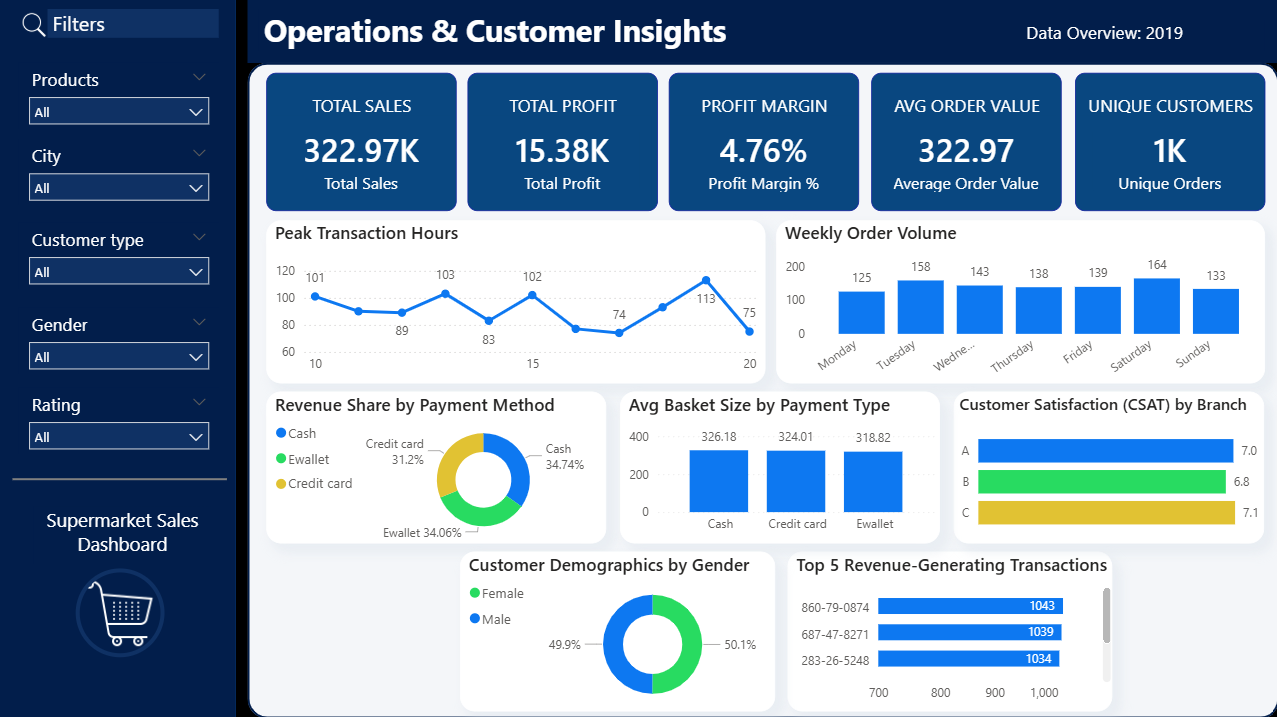

Layout of this report page (visuals, bound fields, positions):
{"tool":"powerbi","page":{"name":"Page 2","canvas":[1280,720],"ordinal":1},"visuals":[{"type":"shape","box":[0,0,235.7,720],"z":0},{"type":"textbox","title":"Filters","box":[47.1,9.7,171.3,29],"z":1000},{"type":"slicer","fields":{"Values":["supermarket_sales - Sheet1.City"]},"box":[18.6,140,200,65.7],"z":2000},{"type":"slicer","fields":{"Values":["supermarket_sales - Sheet1.Customer type"]},"box":[18.6,224.3,200,65.7],"z":3000},{"type":"slicer","fields":{"Values":["supermarket_sales - Sheet1.Product line"]},"box":[18.6,64.3,200,65.7],"z":4000},{"type":"slicer","fields":{"Values":["supermarket_sales - Sheet1.Gender"]},"box":[18.6,308.6,200,65.7],"z":5000},{"type":"slicer","fields":{"Values":["supermarket_sales - Sheet1.Rating"]},"box":[18.6,388.6,200,65.7],"z":6000},{"type":"shape","box":[247.1,0,1032.9,64.3],"z":7000},{"type":"textbox","title":"Operations & Customer Insights","box":[258.6,10,491.4,41.4],"z":8000},{"type":"textbox","title":"Data Overview: 2019","box":[1021.4,21.4,242.9,30],"z":9000},{"type":"shape","box":[247.1,64.3,1032.9,655.7],"z":10000},{"type":"cardVisual","title":"TOTAL SALES","fields":{"Data":["supermarket_sales - Sheet1.Total Sales"]},"box":[266.6,73.6,190,138],"z":11000},{"type":"cardVisual","title":"TOTAL PROFIT","fields":{"Data":["supermarket_sales - Sheet1.Total Profit"]},"box":[466.9,73.6,190,138],"z":12000},{"type":"cardVisual","title":"UNIQUE CUSTOMERS","fields":{"Data":["supermarket_sales - Sheet1.Customer Types"]},"box":[1074.9,73.6,190,138],"z":13000},{"type":"cardVisual","title":"AVG ORDER VALUE","fields":{"Data":["supermarket_sales - Sheet1.Average Order Value"]},"box":[871.1,73.6,190,138],"z":14000},{"type":"cardVisual","title":"PROFIT MARGIN","fields":{"Data":["supermarket_sales - Sheet1.Profit Margin %"]},"box":[668.4,73.6,190,138],"z":15000},{"type":"areaChart","title":"Peak Transaction Hours","fields":{"Category":["supermarket_sales - Sheet1.Transaction Hour"],"Y":["supermarket_sales - Sheet1.Orders by Time of Week"]},"box":[266.6,220.8,499.5,163],"z":16000},{"type":"clusteredBarChart","title":"Top 5 Revenue-Generating Transactions","fields":{"Category":["supermarket_sales - Sheet1.Invoice ID"],"Y":["supermarket_sales - Sheet1.Total Sales"]},"box":[787.8,552.5,324.5,160],"z":17000},{"type":"clusteredColumnChart","title":"Weekly Order Volume","fields":{"Category":["Calendar.DayName"],"Y":["supermarket_sales - Sheet1.Orders by Time of Week"]},"box":[776.2,221.2,488.8,163],"z":18000},{"type":"clusteredBarChart","title":"Customer Satisfaction (CSAT) by Branch","fields":{"Category":["supermarket_sales - Sheet1.Branch"],"Y":["Avg(supermarket_sales - Sheet1.Rating)"]},"box":[954.3,392.1,310.1,152],"z":19000},{"type":"donutChart","title":"Revenue Share by Payment Method","fields":{"Category":["supermarket_sales - Sheet1.Payment"],"Y":["supermarket_sales - Sheet1.Total Sales"]},"box":[266.6,392,340.2,152],"z":20000},{"type":"clusteredColumnChart","title":"Avg Basket Size by Payment Type","fields":{"Y":["supermarket_sales - Sheet1.Average Order Value"],"Category":["supermarket_sales - Sheet1.Payment"]},"box":[620,392.1,319.7,152],"z":21000},{"type":"donutChart","title":"Customer Demographics by Gender","fields":{"Category":["supermarket_sales - Sheet1.Gender"],"Y":["CountNonNull(supermarket_sales - Sheet1.Gender)"]},"box":[460,552.5,315,160],"z":22000},{"type":"image","box":[10,12,48.3,27],"z":23000},{"type":"shape","box":[12.1,330.6,214.7,300.4],"z":24000},{"type":"image","box":[72.4,565.8,95.3,95.3],"z":25000},{"type":"textbox","title":"Supermarket Sales Dashboard","box":[33.8,507.9,177.3,57.9],"z":26000}]}

Visuals, with their boxes in screenshot pixels (x1, y1, x2, y2), scaled from the page's 1280x720 canvas onto the 1277x717 screenshot:
shape: (0,0,235,716)
"Filters" textbox: (47,10,218,39)
slicer - supermarket_sales - Sheet1.City: (19,139,218,205)
slicer - supermarket_sales - Sheet1.Customer type: (19,223,218,289)
slicer - supermarket_sales - Sheet1.Product line: (19,64,218,129)
slicer - supermarket_sales - Sheet1.Gender: (19,307,218,373)
slicer - supermarket_sales - Sheet1.Rating: (19,387,218,452)
shape: (247,0,1276,64)
"Operations & Customer Insights" textbox: (258,10,748,51)
"Data Overview: 2019" textbox: (1019,21,1261,51)
shape: (247,64,1276,716)
"TOTAL SALES" cardVisual: (266,73,456,211)
"TOTAL PROFIT" cardVisual: (466,73,655,211)
"UNIQUE CUSTOMERS" cardVisual: (1072,73,1262,211)
"AVG ORDER VALUE" cardVisual: (869,73,1059,211)
"PROFIT MARGIN" cardVisual: (667,73,856,211)
"Peak Transaction Hours" areaChart: (266,220,764,382)
"Top 5 Revenue-Generating Transactions" clusteredBarChart: (786,550,1110,710)
"Weekly Order Volume" clusteredColumnChart: (774,220,1262,383)
"Customer Satisfaction (CSAT) by Branch" clusteredBarChart: (952,390,1261,542)
"Revenue Share by Payment Method" donutChart: (266,390,605,542)
"Avg Basket Size by Payment Type" clusteredColumnChart: (619,390,937,542)
"Customer Demographics by Gender" donutChart: (459,550,773,710)
image: (10,12,58,39)
shape: (12,329,226,628)
image: (72,563,167,658)
"Supermarket Sales Dashboard" textbox: (34,506,211,563)
